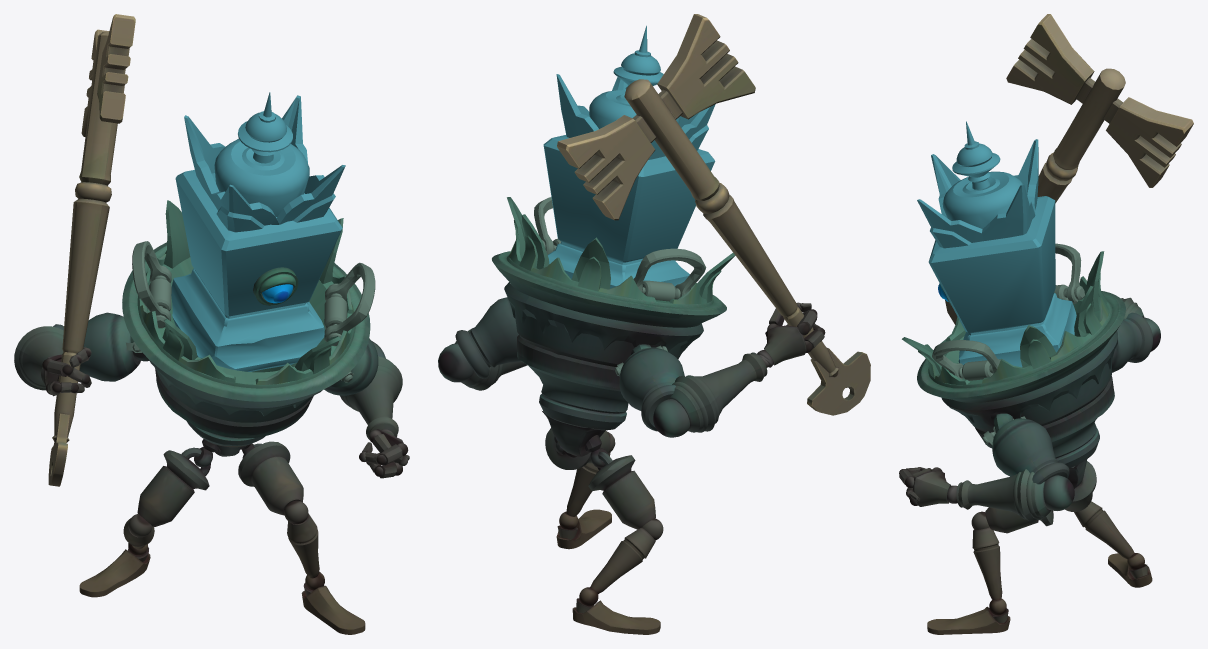
File: Sapphire_Melee.glb
The picture shows the model from 3 angles, left to right: view 1: azimuth 30°, elevation 25°; view 2: azimuth 150°, elevation 25°; view 3: azimuth 270°, elevation 25°; orthographic projection. The views are drawn at different scales.
Visible parts, largest first — view 1: models\npc_units\troopers\sapphire_trooper_01_melee\sapphire (×2); view 2: models\npc_units\troopers\sapphire_trooper_01_melee\sapphire (×2); view 3: models\npc_units\troopers\sapphire_trooper_01_melee\sapphire (×2).
Part boxes in pixels (box(x1,y1,x2,y2)): models\npc_units\troopers\sapphire_trooper_01_melee\sapphire (×2): box(14, 14, 409, 634); models\npc_units\troopers\sapphire_trooper_01_melee\sapphire (×2): box(438, 14, 870, 634); models\npc_units\troopers\sapphire_trooper_01_melee\sapphire (×2): box(899, 14, 1193, 634).
Size of the model in its own units: 1.49 by 2.25 by 1.11.
4 materials, 2 textured.
